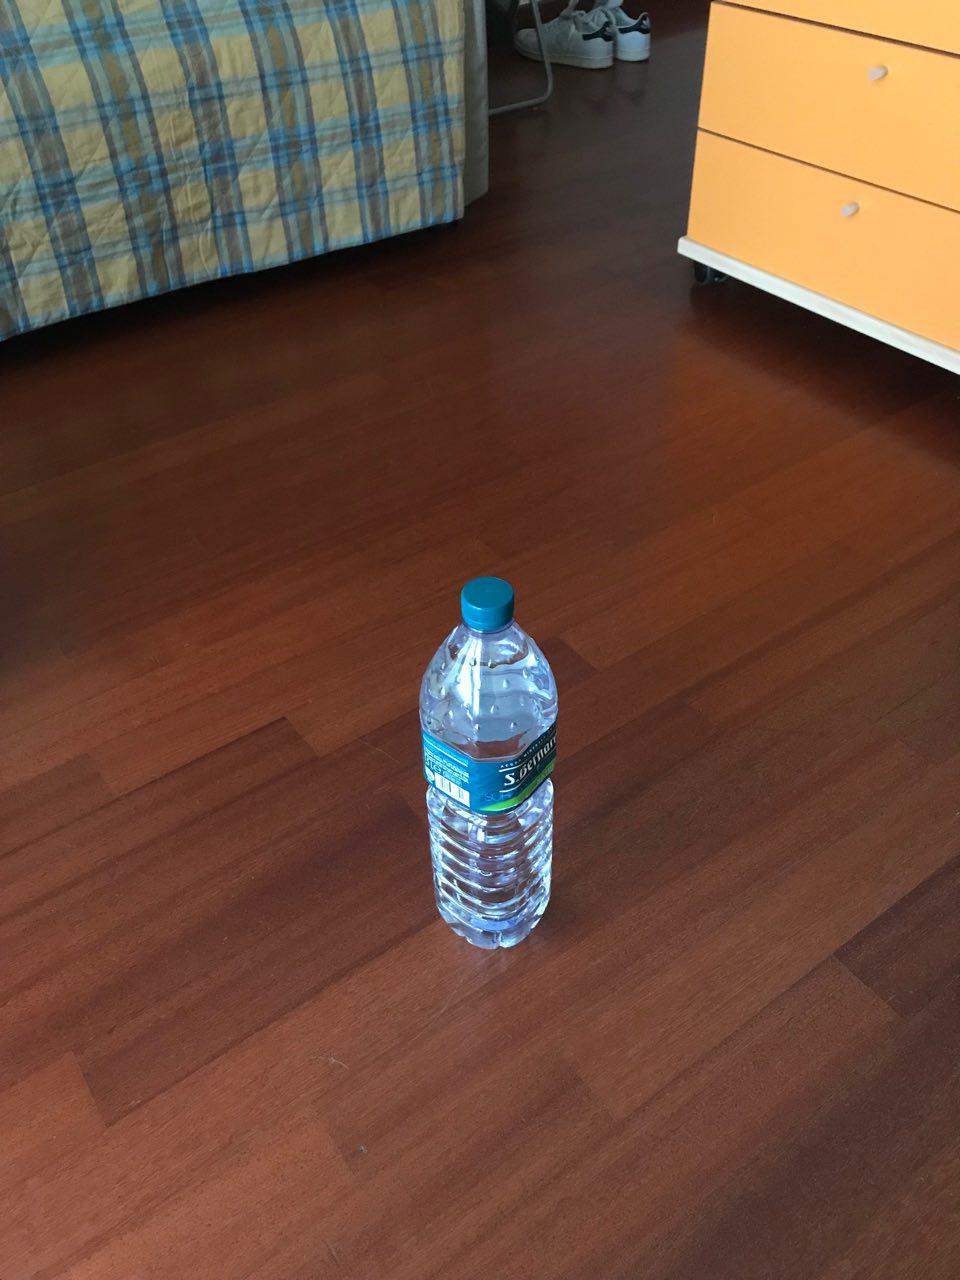san_bernardo: (415, 574, 560, 948)
